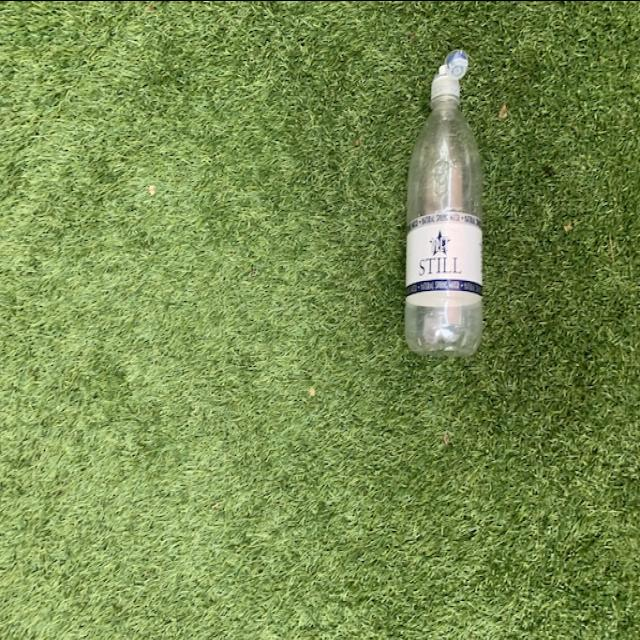litter: (403, 49, 489, 361)
